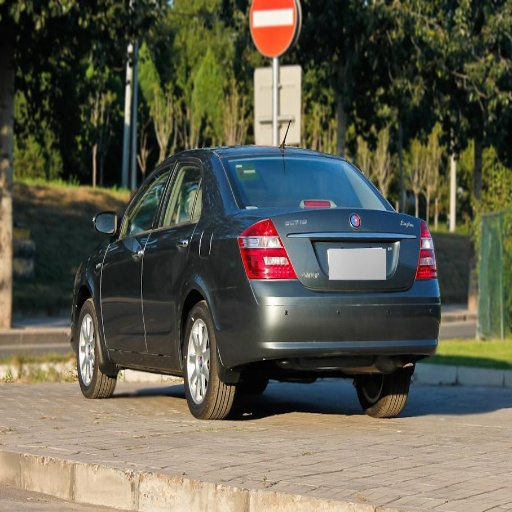back_bumper: (215, 278, 439, 368)
back_glass: (234, 159, 386, 205)
back_left_door: (145, 167, 199, 335)
